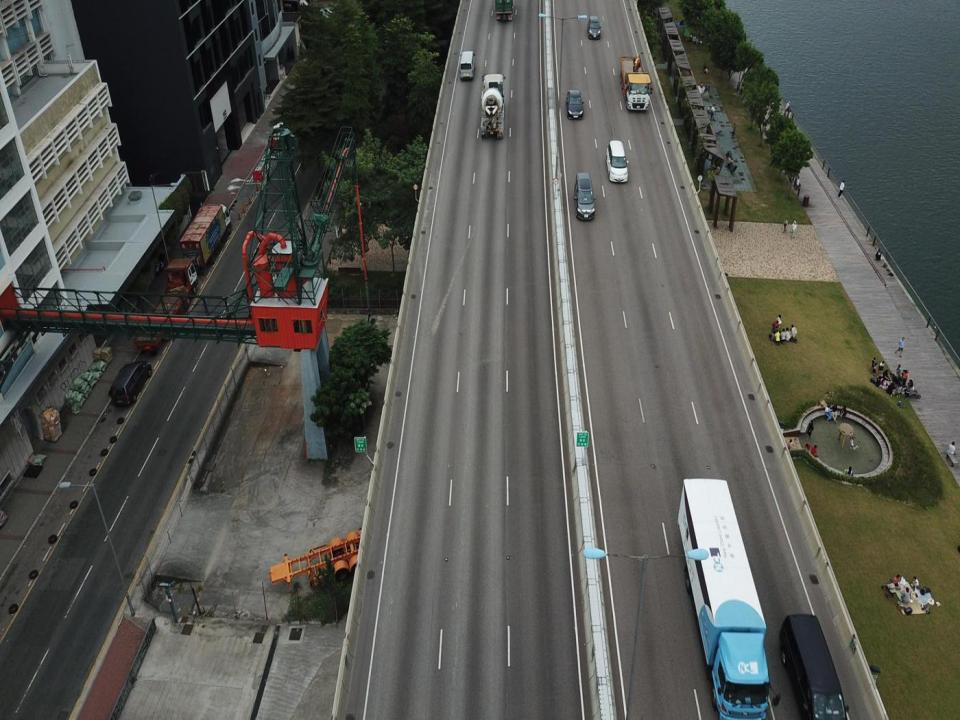car: (572, 168, 597, 222), (603, 136, 629, 185), (564, 86, 584, 120), (587, 14, 603, 40)
truck: (676, 472, 782, 719), (133, 258, 198, 351), (178, 201, 235, 263), (616, 50, 653, 115), (477, 70, 509, 136)
van: (780, 610, 848, 719), (107, 359, 152, 407), (458, 49, 477, 82)
